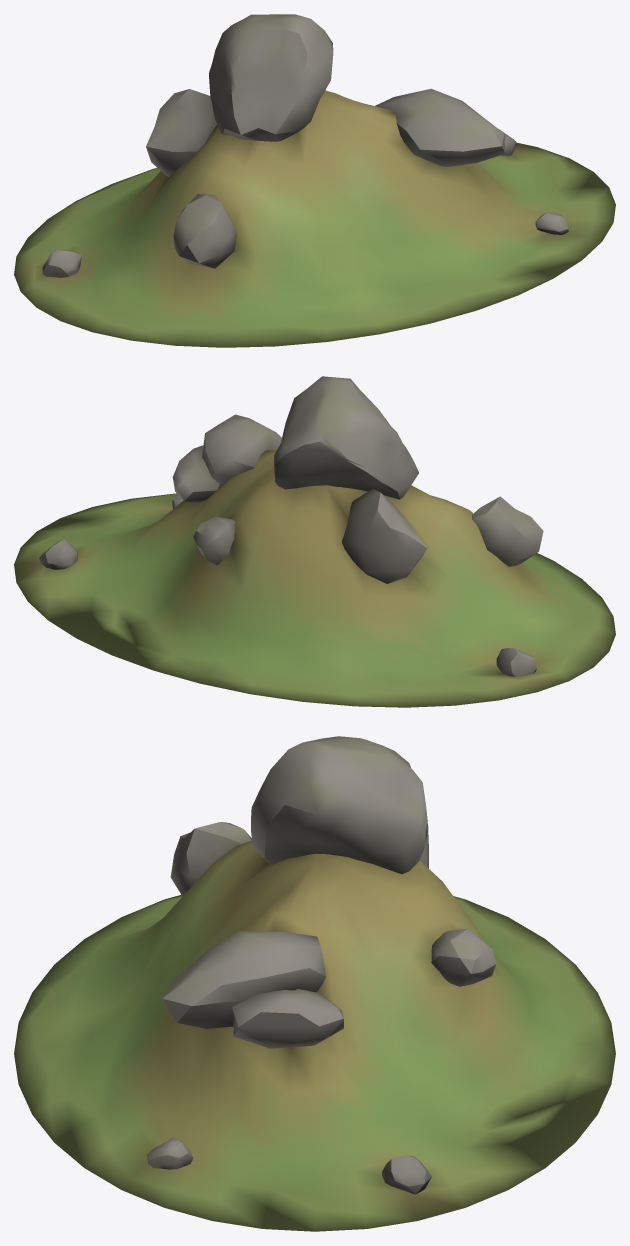
The model's file is hill.glb.
3 renders of one model, top to bottom at view 1: azimuth 30°, elevation 25°; view 2: azimuth 150°, elevation 25°; view 3: azimuth 270°, elevation 25°, orthographic. The views are drawn at different scales.
Visible parts, largest first — view 1: Grass mound, Granite outcrops; view 2: Grass mound, Granite outcrops; view 3: Grass mound, Granite outcrops.
Boxes of the visible parts, left/top/right/bottom form: Grass mound: left=14, top=90, right=615, bottom=347; Granite outcrops: left=42, top=14, right=568, bottom=277; Grass mound: left=14, top=450, right=615, bottom=707; Granite outcrops: left=39, top=376, right=543, bottom=676; Grass mound: left=14, top=840, right=615, bottom=1231; Granite outcrops: left=147, top=736, right=495, bottom=1194.
Size of the model in its own units: 14 by 5.58 by 10.
